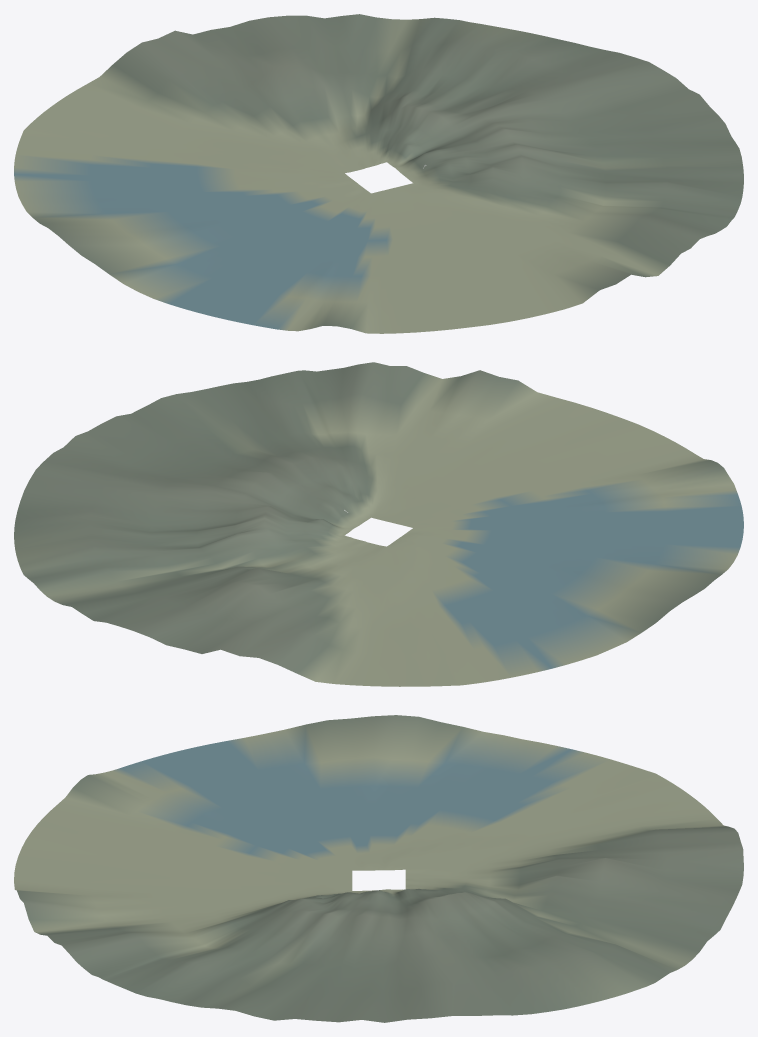
Rendered from valley_lod.glb.
3 views of the same model, one above another, from view 1: azimuth 30°, elevation 25°; view 2: azimuth 150°, elevation 25°; view 3: azimuth 270°, elevation 25° (orthographic).
Parts seen in each view (by area): view 1: Valley backdrop; view 2: Valley backdrop; view 3: Valley backdrop.
Boxes of the visible parts, bbox=[...] form: Valley backdrop: bbox=[14, 14, 743, 333]; Valley backdrop: bbox=[14, 362, 743, 686]; Valley backdrop: bbox=[14, 715, 743, 1022].
Bounding box in the file's own units: 2102 × 87.51 × 2115.
